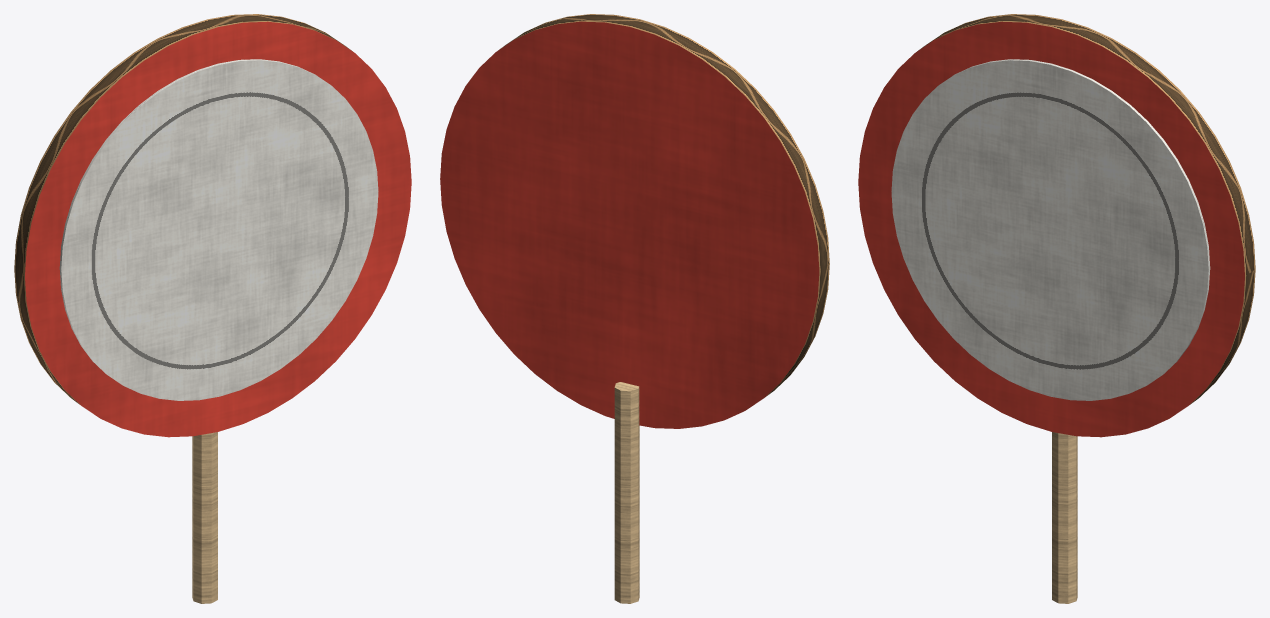
Rendered from menu_target.gltf.
3 views of the same model, side by side, from view 1: azimuth 30°, elevation 25°; view 2: azimuth 150°, elevation 25°; view 3: azimuth 330°, elevation 25° (orthographic).
Parts seen in each view (by area): view 1: menu_target; view 2: menu_target; view 3: menu_target.
Part boxes in pixels (x1=…): menu_target: x1=14, y1=14, x2=411, y2=603; menu_target: x1=440, y1=14, x2=829, y2=603; menu_target: x1=858, y1=14, x2=1255, y2=603.
Size of the model in its own units: 0.84 by 1.21 by 0.081.
4 materials, 4 textured.
